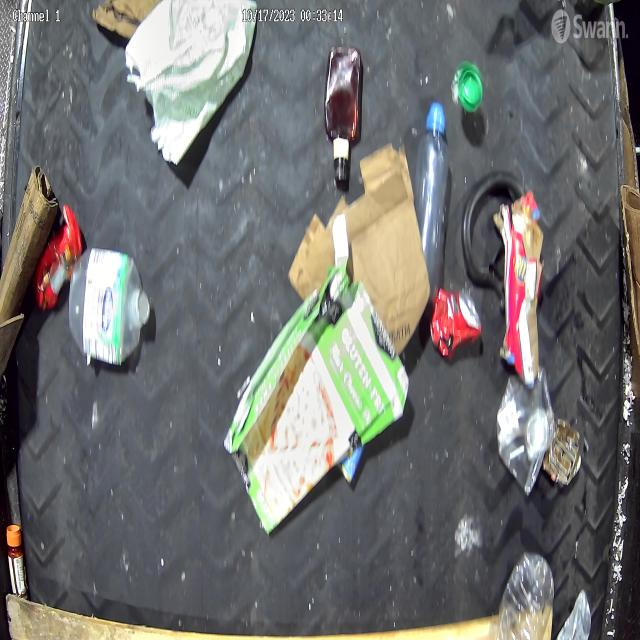can: (430, 284, 481, 358)
plastic_bottle: (416, 100, 448, 282), (497, 549, 555, 640)
